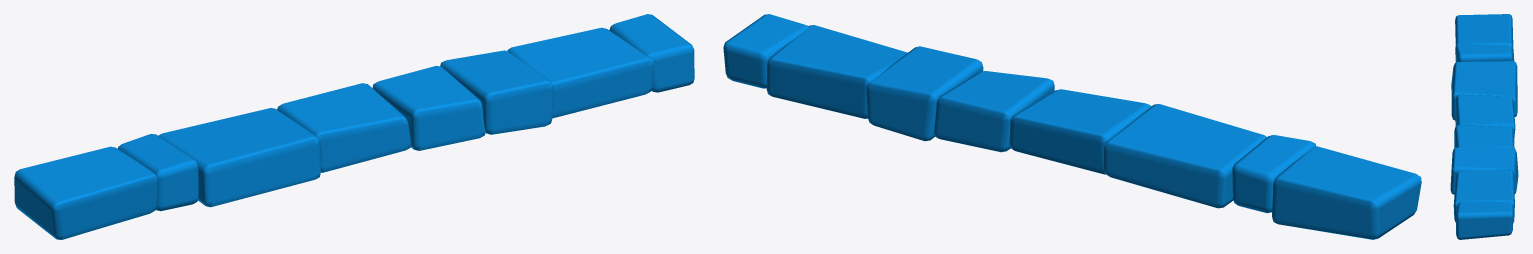
The model's file is terrain_sidestones.fbx.
The picture shows the model from 3 angles, left to right: view 1: azimuth 30°, elevation 25°; view 2: azimuth 150°, elevation 25°; view 3: azimuth 270°, elevation 25°; orthographic projection. The views are drawn at different scales.
Parts seen in each view (by area): view 1: town_gate_highwall; view 2: town_gate_highwall; view 3: town_gate_highwall.
Part boxes in pixels (x1,y1,x2,y2): town_gate_highwall: (14,14,694,239); town_gate_highwall: (723,14,1421,239); town_gate_highwall: (1450,14,1518,239).
Size of the model in its own units: 722 by 52.87 by 102.
